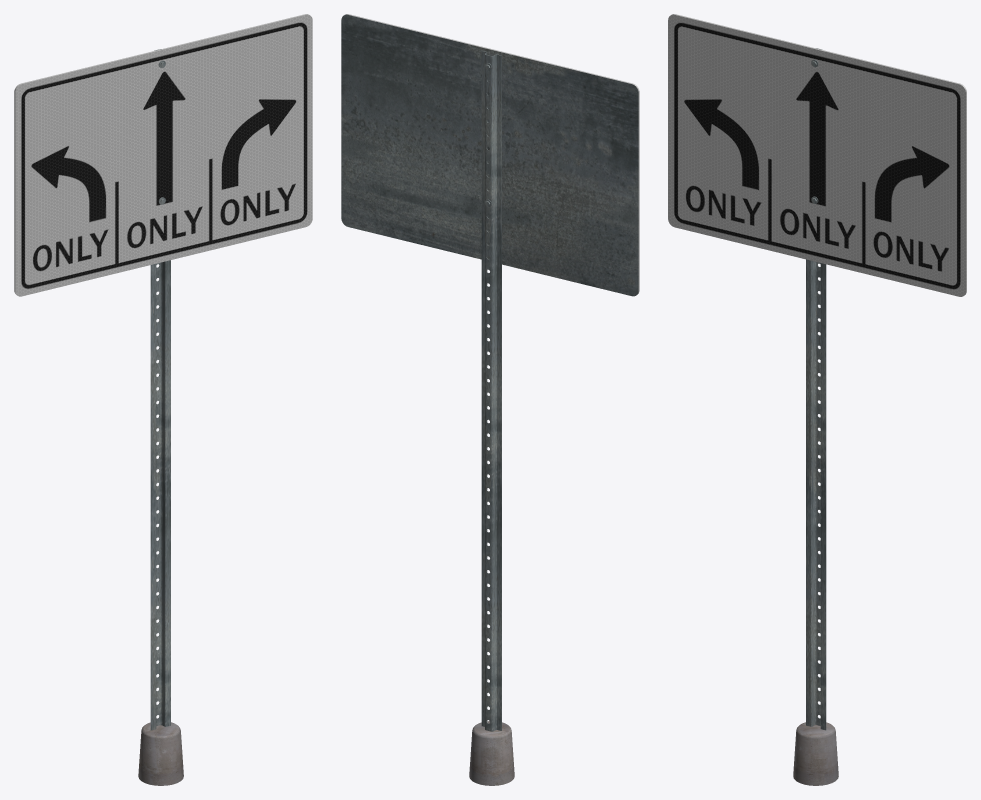
Rendered from turnarrows2_nsoc.obj.
The picture shows the model from 3 angles, left to right: view 1: azimuth 30°, elevation 25°; view 2: azimuth 150°, elevation 25°; view 3: azimuth 330°, elevation 25°; orthographic projection.
Parts seen in each view (by area): view 1: sign_turn_arrows_4; view 2: sign_turn_arrows_4; view 3: sign_turn_arrows_4.
Boxes of the visible parts, left/top/right/bottom form: sign_turn_arrows_4: left=14, top=14, right=312, bottom=785; sign_turn_arrows_4: left=341, top=14, right=639, bottom=785; sign_turn_arrows_4: left=668, top=14, right=966, bottom=785.
Size of the model in its own units: 44 by 103 by 5.84.
3 materials, 3 textured.
